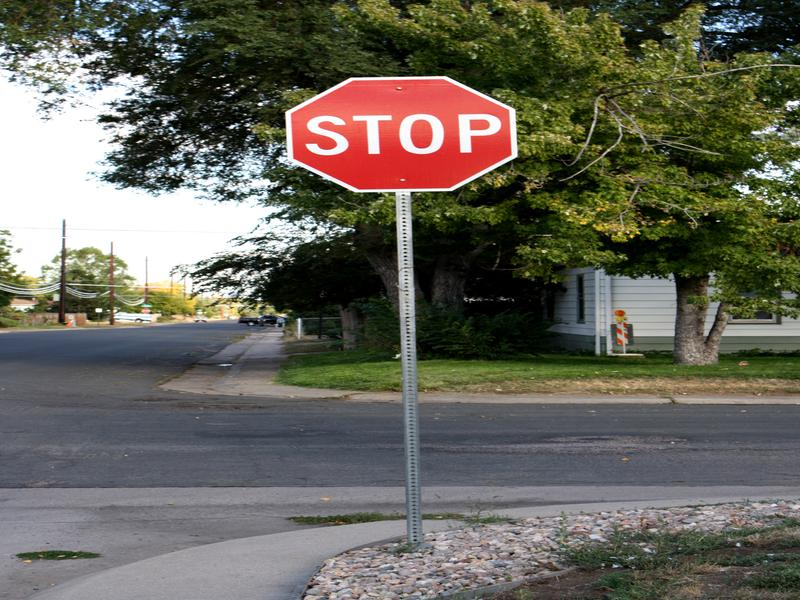stop: (281, 75, 522, 193)
